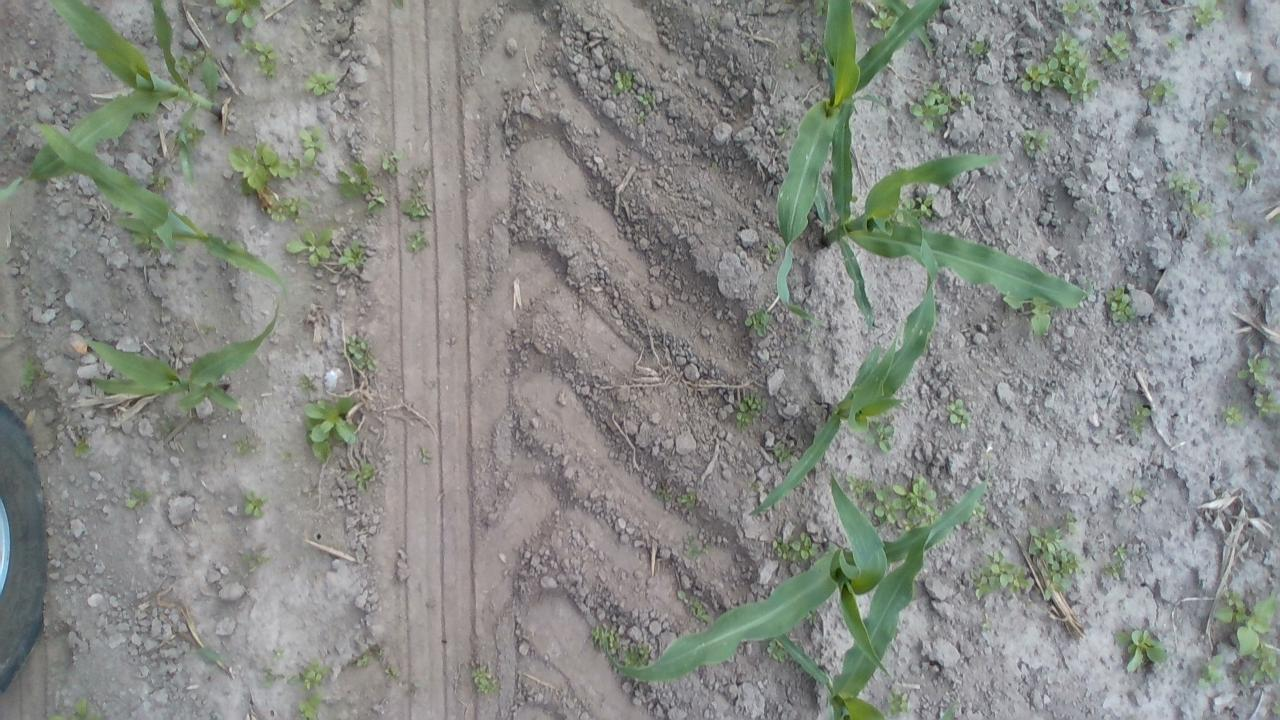Maize: (604, 452, 991, 686), (808, 84, 1095, 325), (749, 210, 938, 517), (770, 0, 944, 319), (24, 115, 293, 305), (772, 511, 996, 720), (0, 0, 219, 205), (81, 308, 276, 415)
Weeds: (1017, 30, 1099, 103), (1027, 524, 1086, 602), (860, 475, 940, 532), (302, 396, 357, 461), (970, 548, 1031, 600), (226, 140, 278, 196), (1236, 594, 1278, 656), (1114, 628, 1169, 674), (907, 80, 955, 130), (1002, 294, 1056, 336), (285, 226, 333, 268), (770, 531, 821, 565), (334, 156, 374, 199), (242, 38, 280, 82), (890, 195, 939, 228), (48, 695, 108, 720), (214, 0, 264, 28), (172, 47, 207, 83), (266, 197, 310, 224), (735, 393, 768, 429), (1212, 589, 1248, 622), (1252, 640, 1280, 682), (1104, 286, 1136, 322), (1228, 150, 1258, 188), (344, 335, 376, 370), (400, 184, 430, 221), (590, 623, 622, 656), (172, 119, 206, 150), (868, 1, 898, 36), (1098, 31, 1129, 64), (468, 665, 501, 696), (863, 420, 894, 453), (300, 125, 326, 164), (301, 659, 332, 691), (1192, 0, 1224, 31), (1237, 358, 1270, 386), (1060, 0, 1100, 23), (680, 530, 710, 560), (303, 71, 337, 97), (1019, 129, 1051, 156), (1128, 400, 1151, 437), (1168, 173, 1202, 198), (348, 458, 373, 492), (1141, 80, 1176, 104), (20, 356, 44, 391), (744, 308, 772, 338), (241, 489, 268, 520), (1198, 654, 1224, 686), (338, 241, 366, 269), (946, 398, 970, 430), (761, 638, 790, 664), (1180, 198, 1214, 220), (1253, 391, 1280, 418), (378, 149, 406, 174), (884, 692, 910, 718), (278, 156, 306, 180), (622, 644, 650, 668), (130, 231, 163, 251), (298, 694, 323, 720), (846, 476, 873, 500), (799, 41, 826, 65), (356, 648, 387, 668), (232, 435, 260, 456), (688, 598, 712, 622), (146, 172, 172, 192), (125, 488, 148, 510), (1220, 402, 1243, 424), (612, 70, 632, 94), (407, 230, 428, 252), (366, 192, 386, 215), (262, 668, 285, 688), (241, 554, 269, 570), (1206, 230, 1228, 250), (1126, 485, 1148, 504), (968, 39, 991, 57), (1101, 560, 1122, 579), (678, 490, 698, 509), (1164, 35, 1184, 53), (1211, 114, 1228, 135), (1062, 512, 1078, 534), (774, 444, 792, 462), (652, 486, 672, 502), (766, 240, 780, 262), (636, 90, 655, 106), (74, 439, 89, 458), (956, 91, 974, 106), (298, 374, 312, 393), (814, 0, 828, 19), (1112, 542, 1128, 558), (778, 122, 792, 140), (270, 647, 284, 663), (973, 501, 986, 518), (972, 521, 991, 532), (805, 608, 817, 625), (384, 666, 398, 680), (1237, 670, 1250, 685), (161, 422, 174, 434), (1271, 699, 1280, 716), (942, 498, 954, 510), (422, 448, 432, 462), (746, 481, 761, 490), (676, 589, 688, 600), (848, 209, 860, 220), (200, 324, 213, 334), (708, 12, 718, 23), (637, 112, 646, 124), (310, 169, 320, 179), (288, 675, 299, 684), (784, 60, 796, 68), (850, 193, 859, 203), (880, 410, 891, 417), (282, 453, 290, 462), (394, 0, 403, 8), (1274, 213, 1280, 222), (711, 162, 717, 168)
